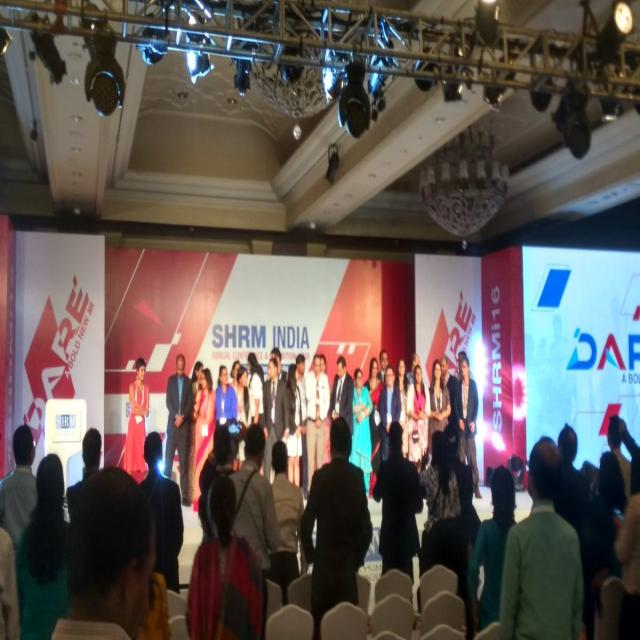body: (495, 433, 589, 639), (49, 465, 158, 640), (299, 415, 374, 638), (185, 473, 264, 640), (227, 421, 281, 639), (371, 419, 424, 632), (14, 452, 73, 640), (468, 463, 518, 635), (137, 430, 185, 598), (267, 438, 305, 607), (580, 412, 639, 501), (161, 352, 193, 514), (0, 424, 38, 552), (615, 447, 640, 640), (418, 428, 463, 534), (453, 354, 483, 500), (197, 417, 245, 504), (259, 356, 291, 484), (304, 352, 331, 502), (64, 424, 103, 524), (121, 356, 150, 486), (346, 367, 373, 504), (192, 367, 217, 514), (555, 421, 588, 532), (363, 357, 385, 502), (309, 353, 331, 488), (442, 422, 474, 514), (405, 363, 432, 472), (426, 358, 452, 463), (186, 360, 204, 508), (0, 515, 21, 640), (284, 362, 304, 488), (139, 563, 171, 640), (231, 366, 254, 472), (378, 364, 402, 464), (294, 352, 309, 500), (607, 414, 632, 499), (329, 355, 354, 435), (391, 357, 410, 459), (247, 351, 266, 431), (214, 364, 238, 426), (439, 352, 459, 425), (455, 350, 476, 384), (269, 347, 288, 384), (404, 351, 421, 392), (377, 349, 389, 387), (228, 358, 242, 388)
